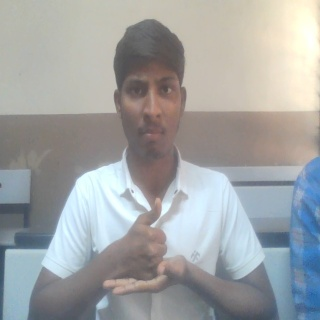Face: (111, 17, 191, 163)
Help: (99, 195, 190, 297)
